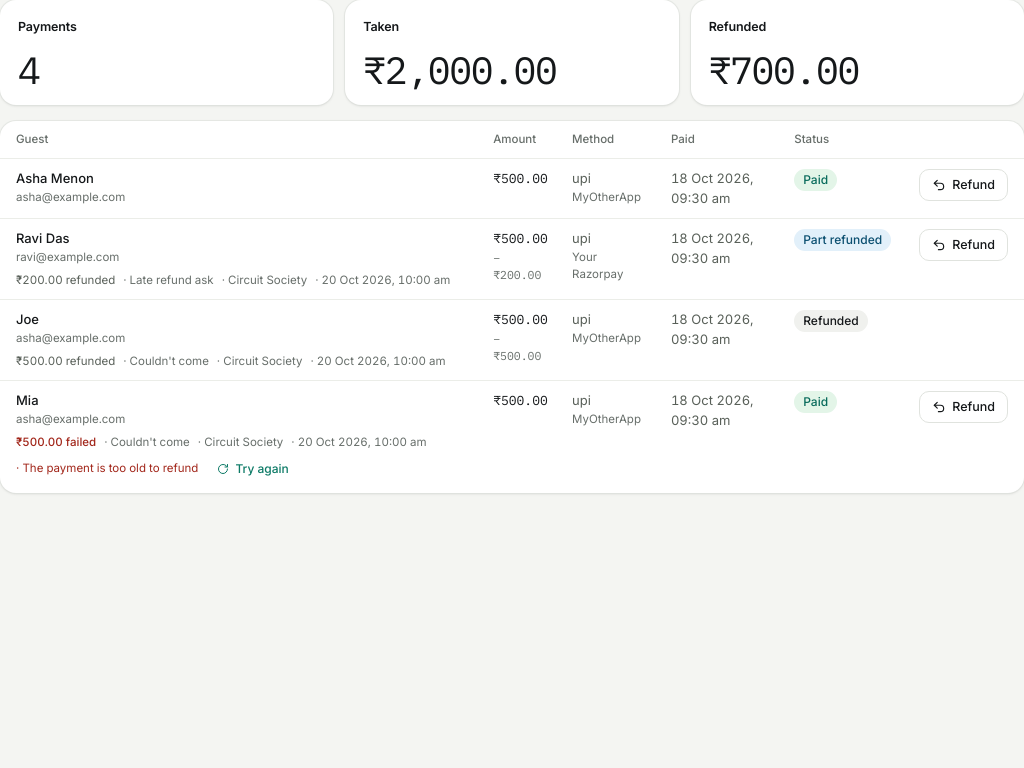
it: the event's payments › keeps the dialog open with the server's reason when it refuses
Click the button with aria-label "Refund Asha Menon": (964, 185) [919, 169, 1008, 201]
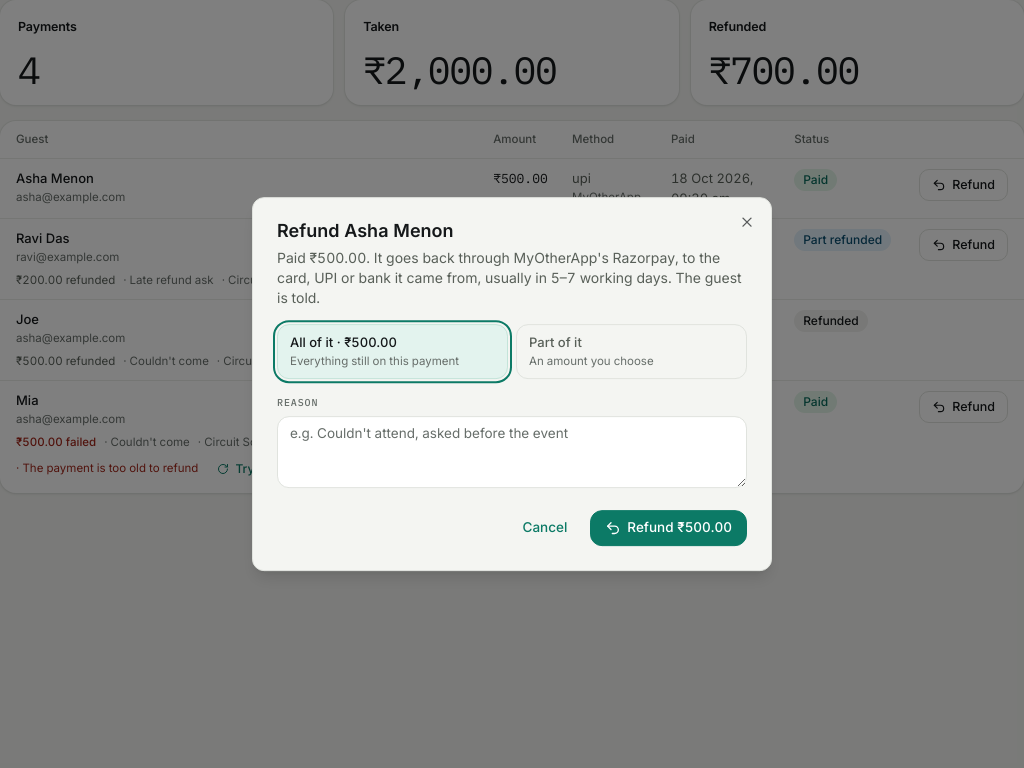
In the text box labelled "Reason": (512, 452) [277, 416, 747, 488], type "Couldn't come"
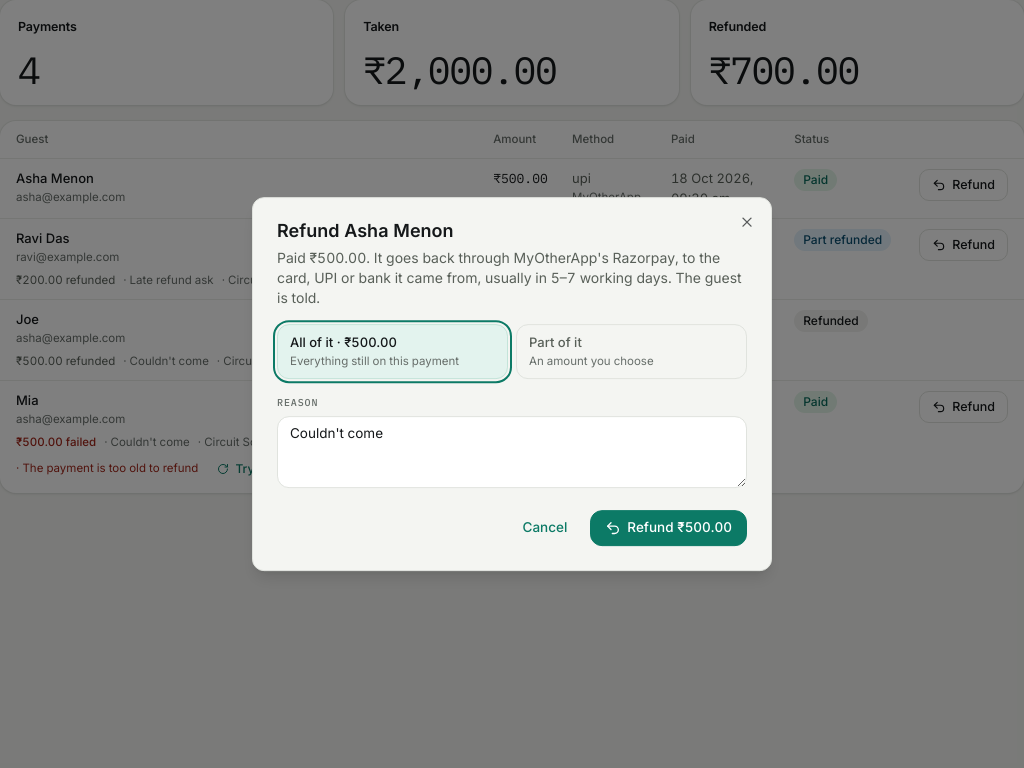
Click the button "Refund ₹500.00": (669, 528) [590, 510, 747, 546]
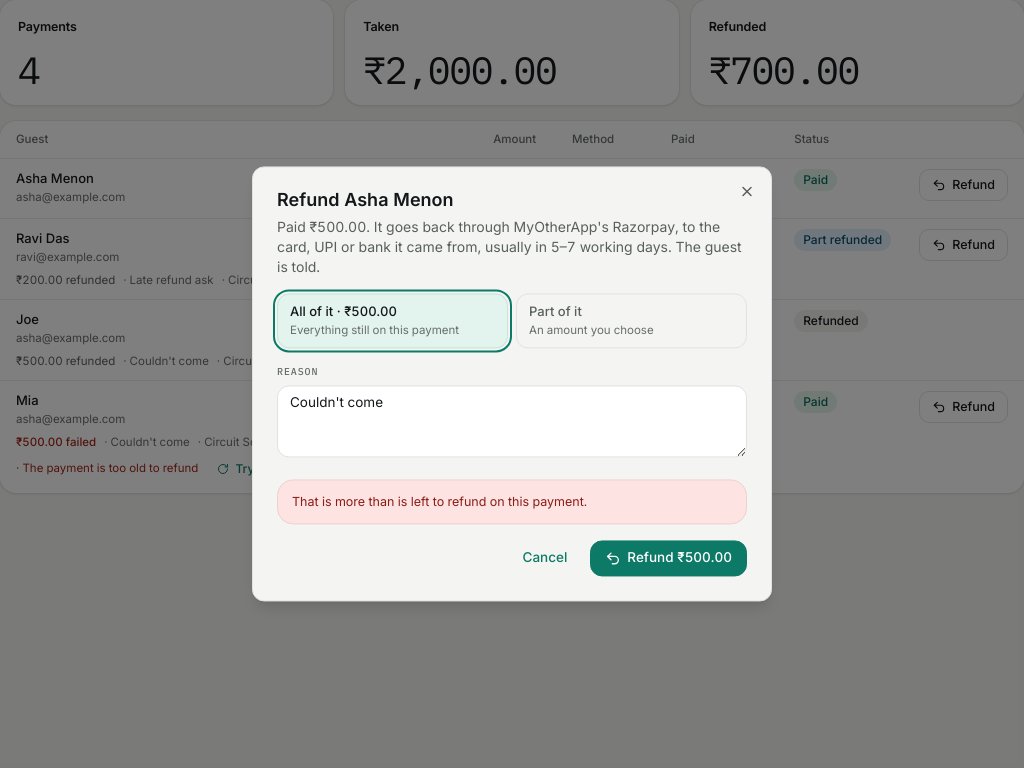
Result: the text "That is more than is left to refund on this payment." is shown at [292, 494, 587, 509]
